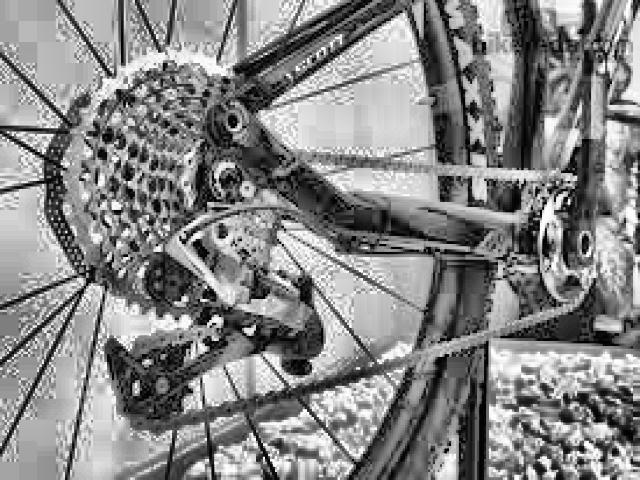cassette: (82, 44, 293, 322)
cranks_set: (528, 46, 612, 308)
rear_derailleur: (102, 161, 329, 432)
